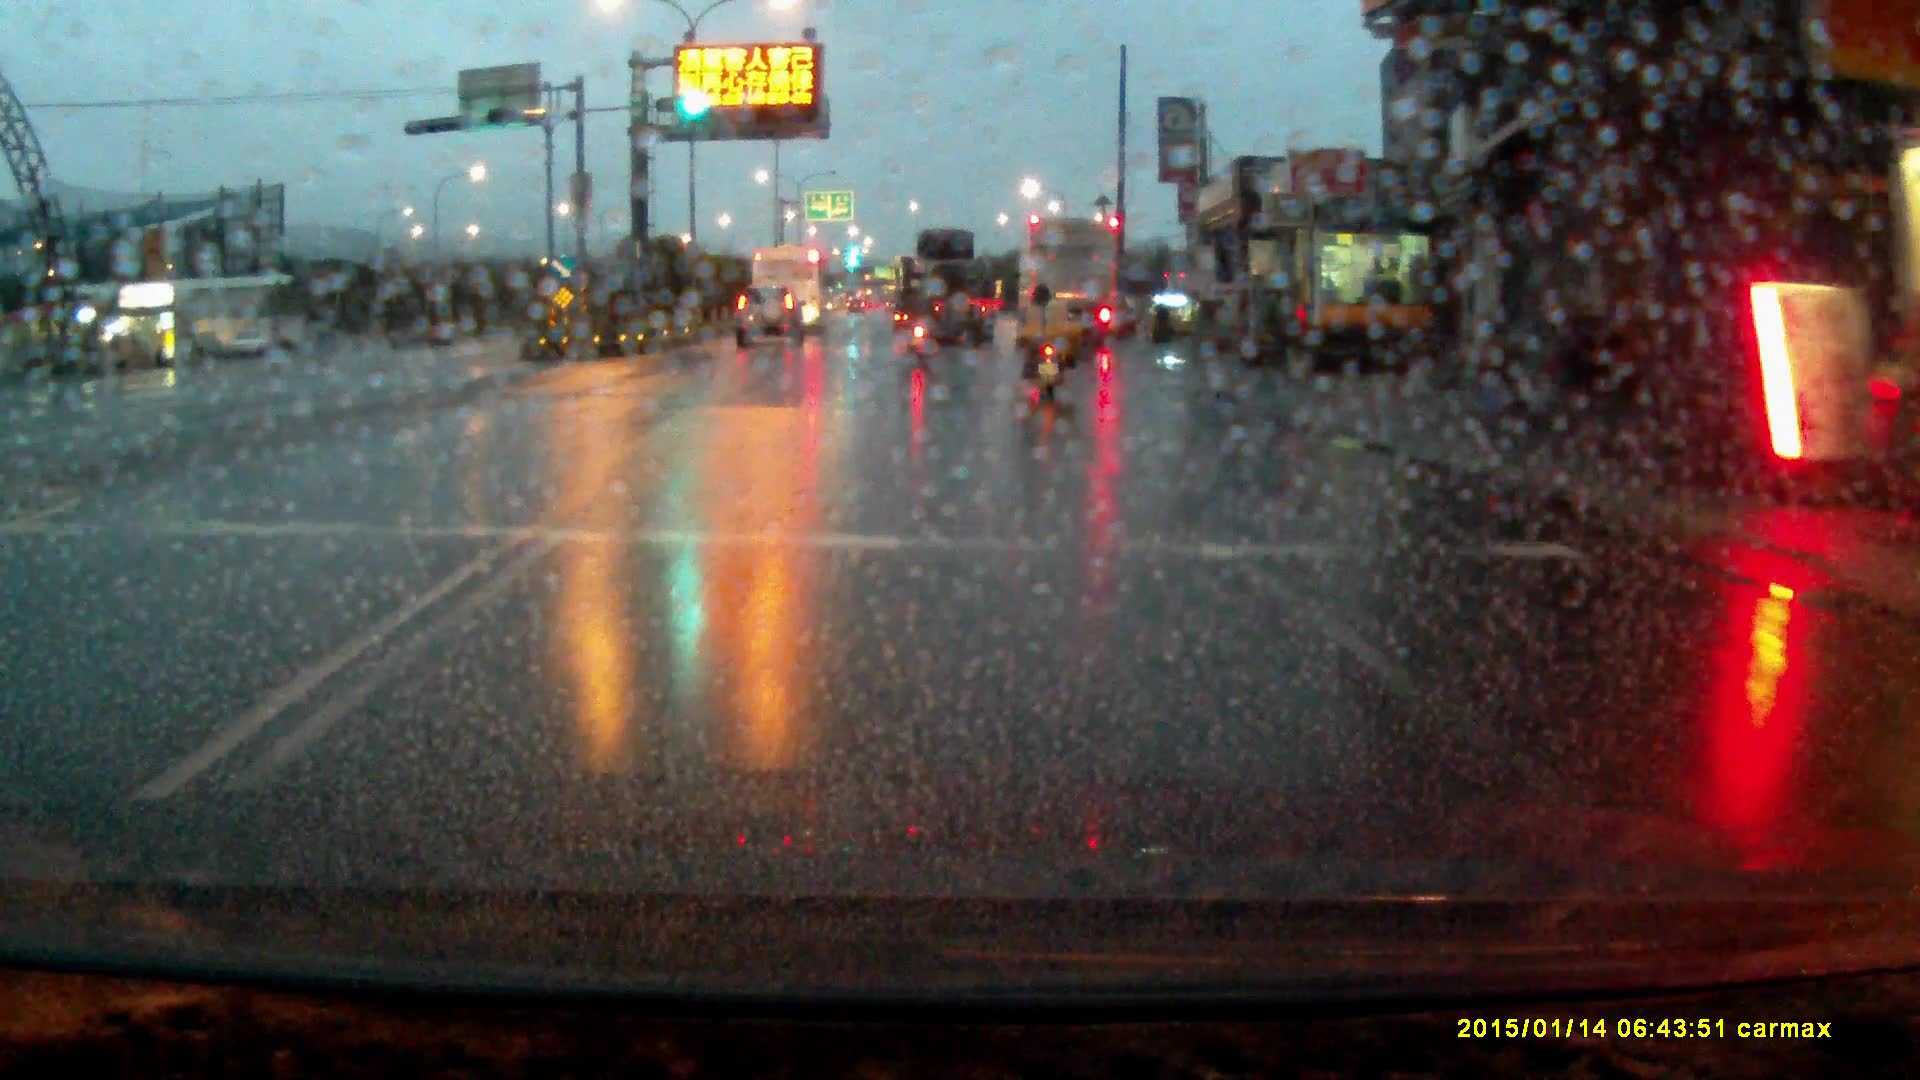rider: (1018, 287, 1080, 412), (902, 283, 939, 370)
vehicle: (1020, 219, 1120, 352), (901, 232, 996, 347), (755, 245, 829, 330), (732, 293, 808, 358)
